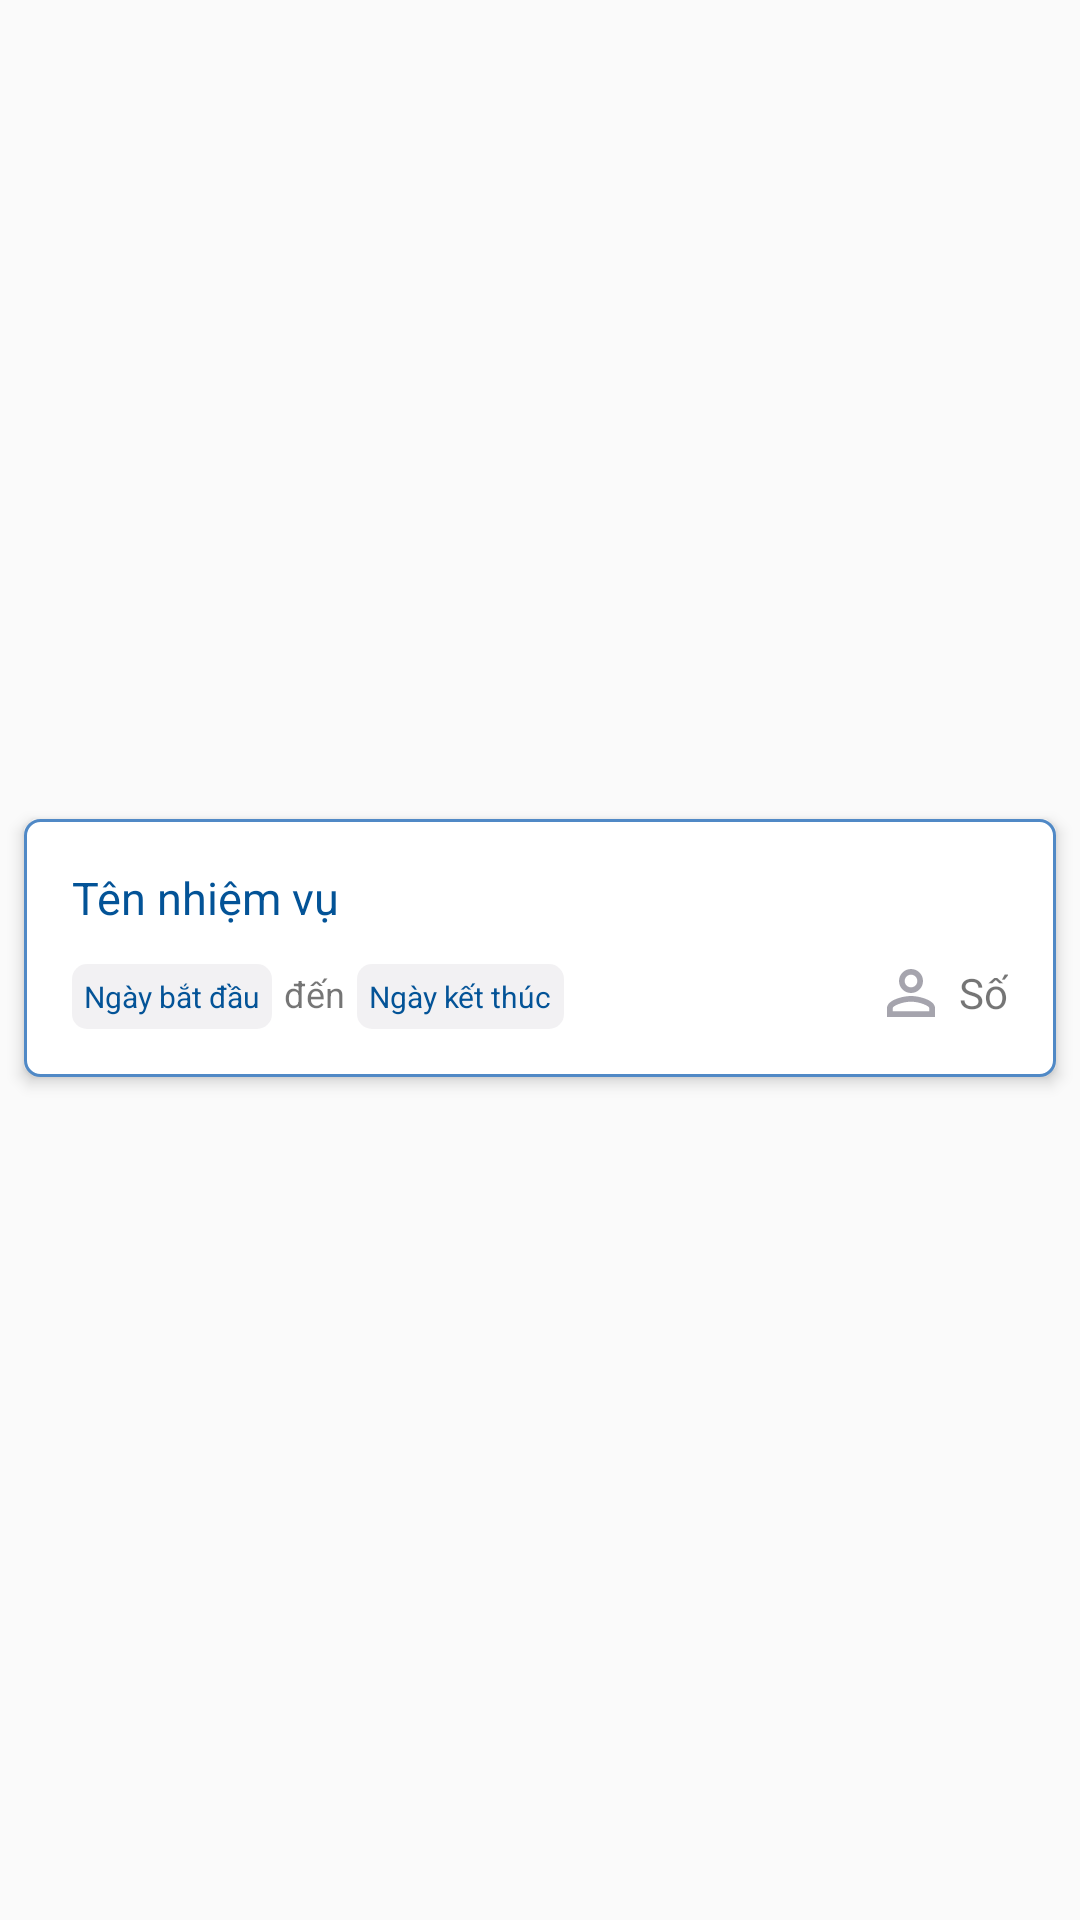

Named icons in this screenshot (1080×1920) and their bounding boxes, box=[x1, y1, x2, y2]:
person: box=[887, 969, 935, 1017]
